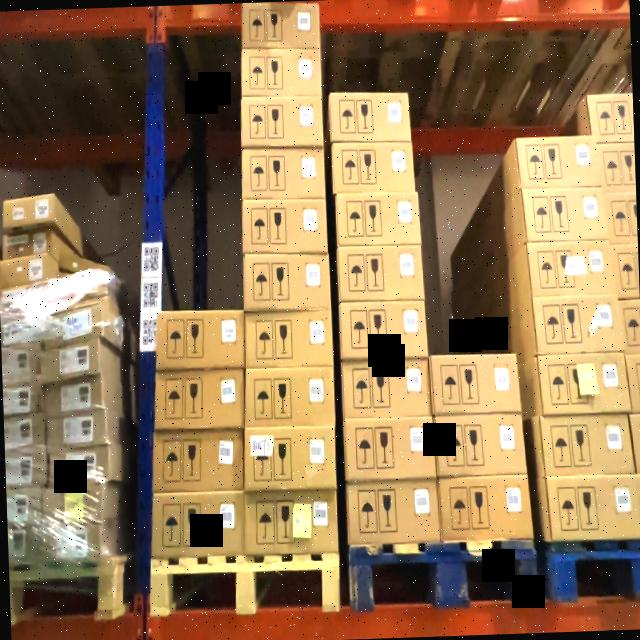box: (242, 487, 338, 554), (438, 474, 534, 541), (152, 492, 245, 558), (546, 474, 640, 539), (342, 416, 436, 480), (245, 426, 338, 490), (242, 367, 336, 429), (153, 430, 244, 493), (346, 480, 438, 542), (338, 300, 430, 361), (157, 308, 246, 371), (340, 359, 430, 421), (542, 414, 632, 476), (436, 414, 525, 476), (246, 308, 336, 368), (432, 352, 518, 414), (156, 369, 244, 428), (239, 198, 328, 256), (535, 294, 624, 352), (243, 253, 331, 311), (338, 244, 423, 303), (542, 354, 627, 413), (532, 240, 616, 298), (238, 146, 328, 200), (336, 190, 420, 247), (526, 186, 606, 242), (240, 97, 323, 150), (332, 142, 414, 194), (329, 92, 410, 144), (518, 136, 598, 188), (241, 48, 321, 99), (240, 0, 320, 50), (6, 494, 44, 565), (46, 410, 108, 451), (44, 302, 105, 343), (48, 446, 110, 486), (40, 526, 100, 566), (44, 341, 102, 382), (46, 486, 105, 526), (44, 378, 104, 416), (587, 95, 634, 142), (602, 191, 638, 243), (2, 193, 54, 228), (599, 144, 636, 191), (54, 274, 108, 306), (0, 255, 52, 287), (2, 228, 55, 258), (4, 452, 44, 491), (0, 283, 48, 314), (4, 416, 44, 452), (1, 347, 39, 384), (2, 382, 42, 417), (0, 311, 41, 345), (616, 245, 640, 297), (58, 250, 107, 271), (626, 301, 640, 349), (629, 353, 640, 413), (633, 414, 640, 473)
